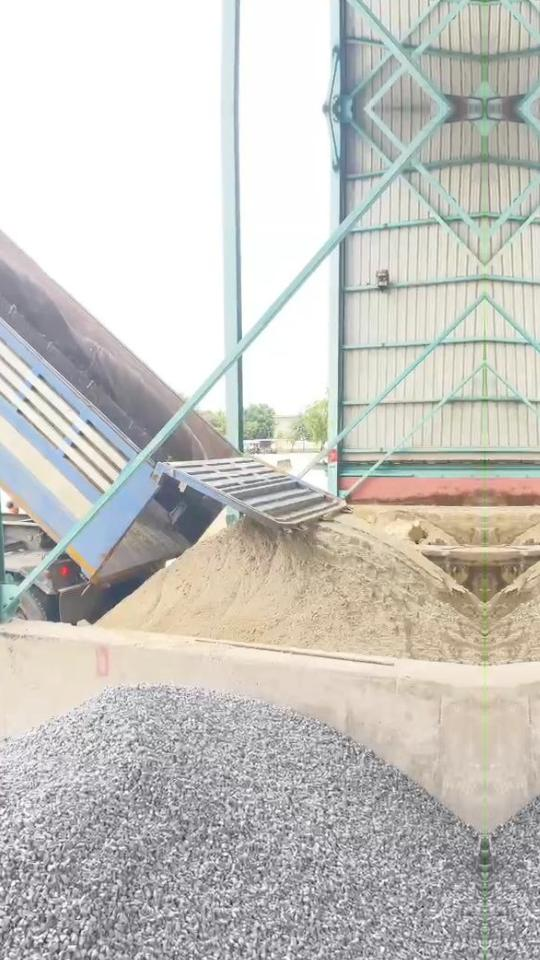gravel: (0, 686, 483, 960)
sand: (98, 515, 482, 662), (376, 510, 464, 550)
